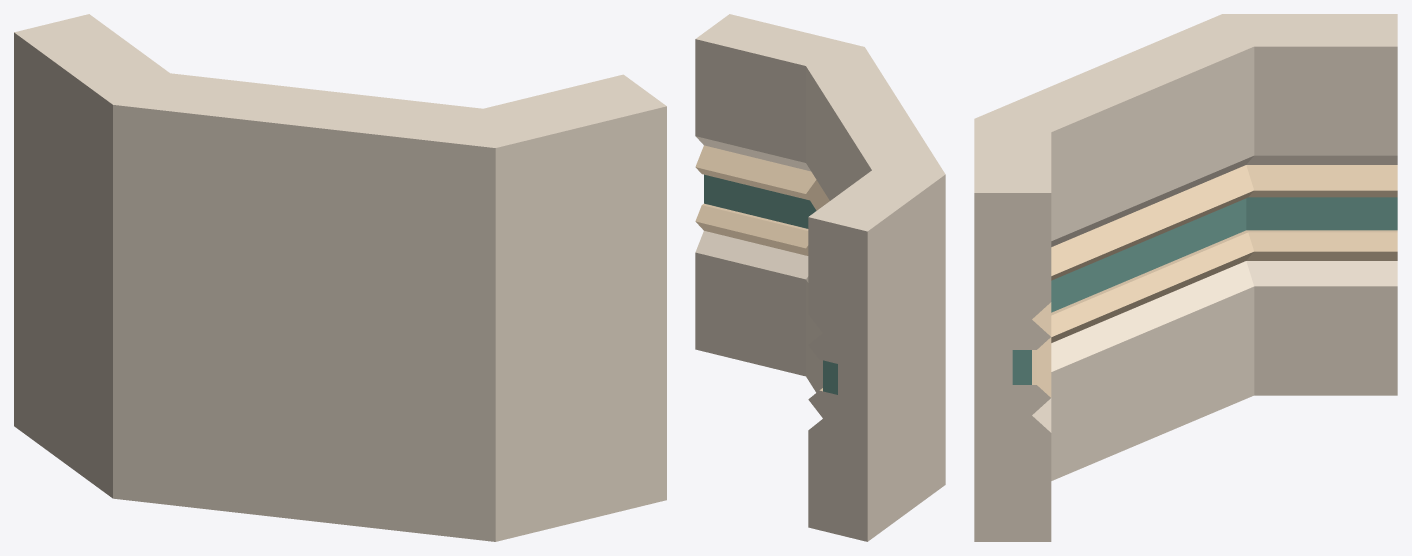
File: Puzzle_Wall_Conduit_Path_Curved_Small_Inner.glb
3 renders of one model, left to right at view 1: azimuth 30°, elevation 25°; view 2: azimuth 150°, elevation 25°; view 3: azimuth 270°, elevation 25°, orthographic. The views are drawn at different scales.
Visible parts, largest first — view 1: Puzzle_Wall_Conduit_Path_Curved_Small_Inner; view 2: Puzzle_Wall_Conduit_Path_Curved_Small_Inner; view 3: Puzzle_Wall_Conduit_Path_Curved_Small_Inner.
Part boxes in pixels (box(x1,y1,x2,y2)): Puzzle_Wall_Conduit_Path_Curved_Small_Inner: box(14, 14, 666, 541); Puzzle_Wall_Conduit_Path_Curved_Small_Inner: box(695, 14, 945, 541); Puzzle_Wall_Conduit_Path_Curved_Small_Inner: box(974, 14, 1397, 541).
Bounding box in the file's own units: 1.1 × 1 × 1.1.
